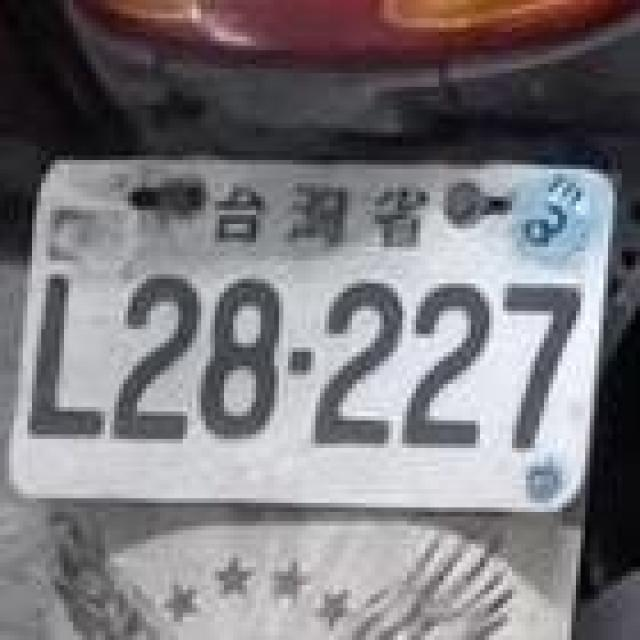W: (4, 158, 625, 519)
